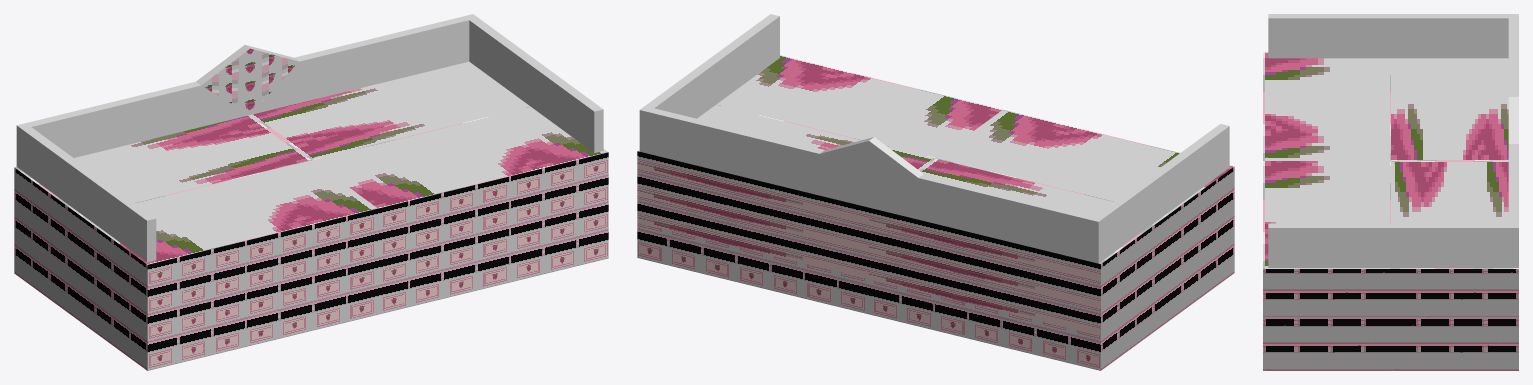
The model's file is 3654kg_case_21.gltf.
The picture shows the model from 3 angles, left to right: view 1: azimuth 30°, elevation 25°; view 2: azimuth 150°, elevation 25°; view 3: azimuth 270°, elevation 25°; orthographic projection. The views are drawn at different scales.
Visible parts, largest first — view 1: 3654kg_case_21; view 2: 3654kg_case_21; view 3: 3654kg_case_21.
Boxes of the visible parts, <box> form: 3654kg_case_21: <box>14,14,608,370</box>; 3654kg_case_21: <box>637,14,1234,370</box>; 3654kg_case_21: <box>1263,14,1518,370</box>.
Bounding box in the file's own units: 2 × 0.7153 × 1.
Materials: 3 (3 with a texture image).
